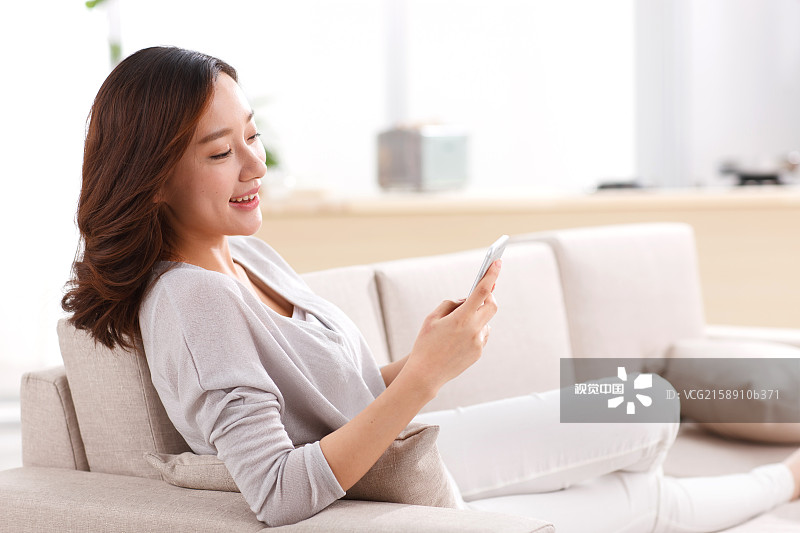reading: (376, 226, 532, 397)
